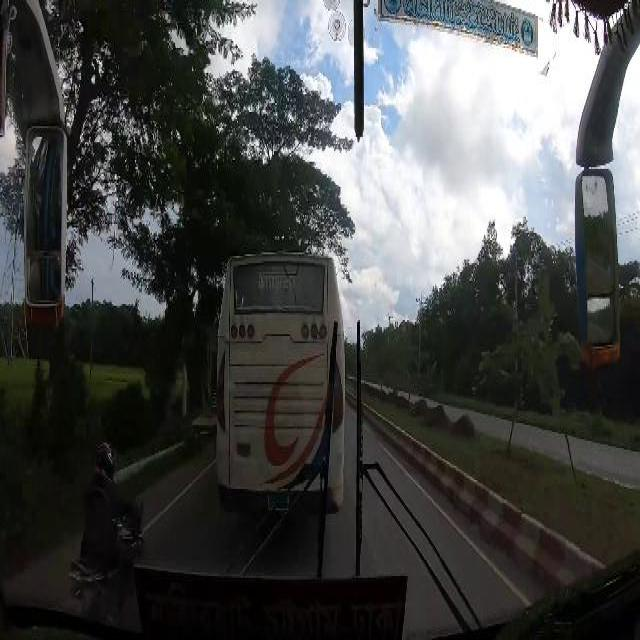10: (66, 437, 144, 619)
Truck: (219, 249, 345, 508)
